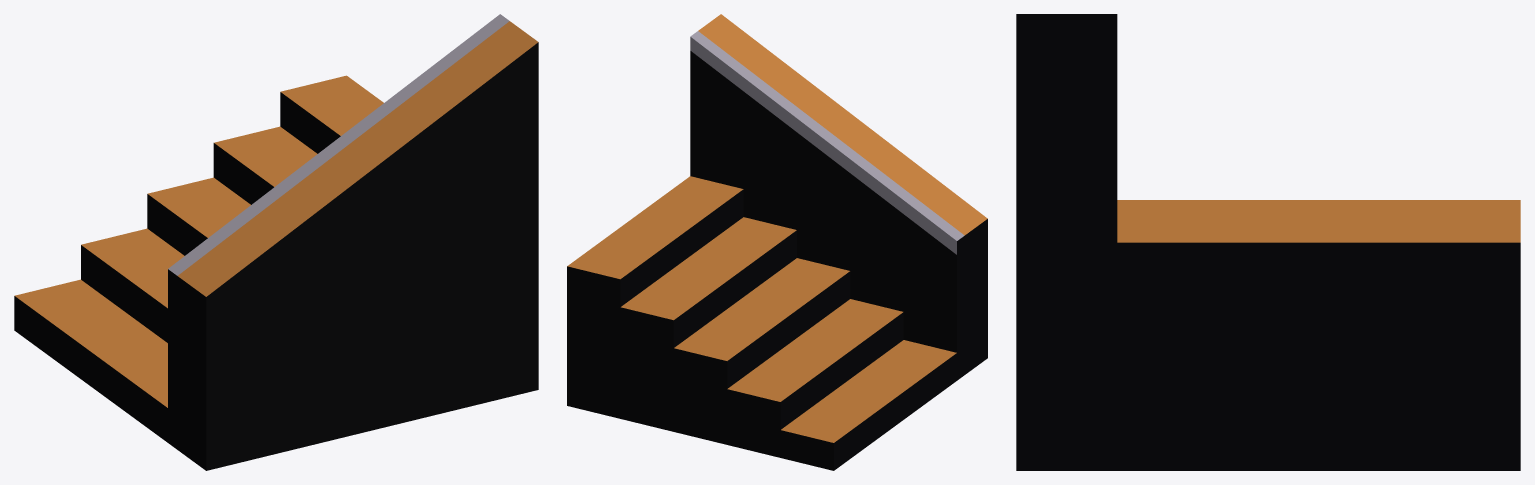
The model's file is Ledge_Stairs__LRG_R.obj.
The picture shows the model from 3 angles, left to right: view 1: azimuth 30°, elevation 25°; view 2: azimuth 150°, elevation 25°; view 3: azimuth 270°, elevation 25°; orthographic projection. The views are drawn at different scales.
Visible parts, largest first — view 1: Ledge_Stairs__LRG_R; view 2: Ledge_Stairs__LRG_R; view 3: Ledge_Stairs__LRG_R.
Part boxes in pixels (x1,y1,x2,y2): Ledge_Stairs__LRG_R: [14, 14, 538, 470]; Ledge_Stairs__LRG_R: [567, 14, 987, 470]; Ledge_Stairs__LRG_R: [1016, 14, 1520, 470].
Bounding box in the file's own units: 10 × 10 × 10.
